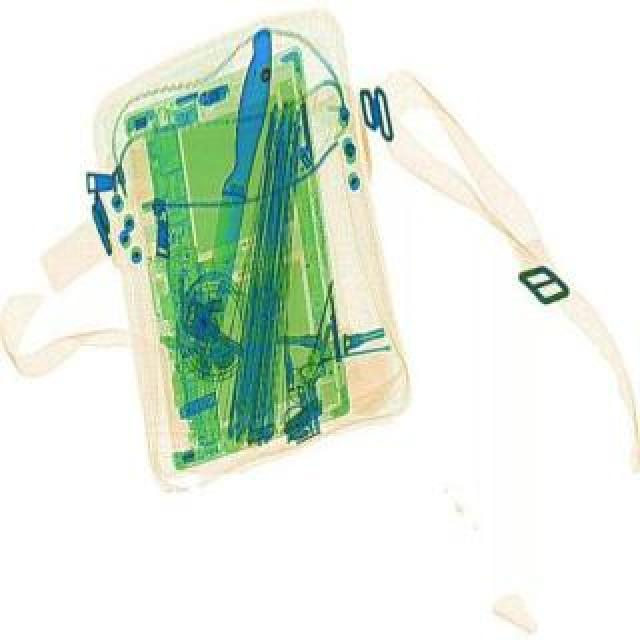knife: (194, 26, 280, 332)
